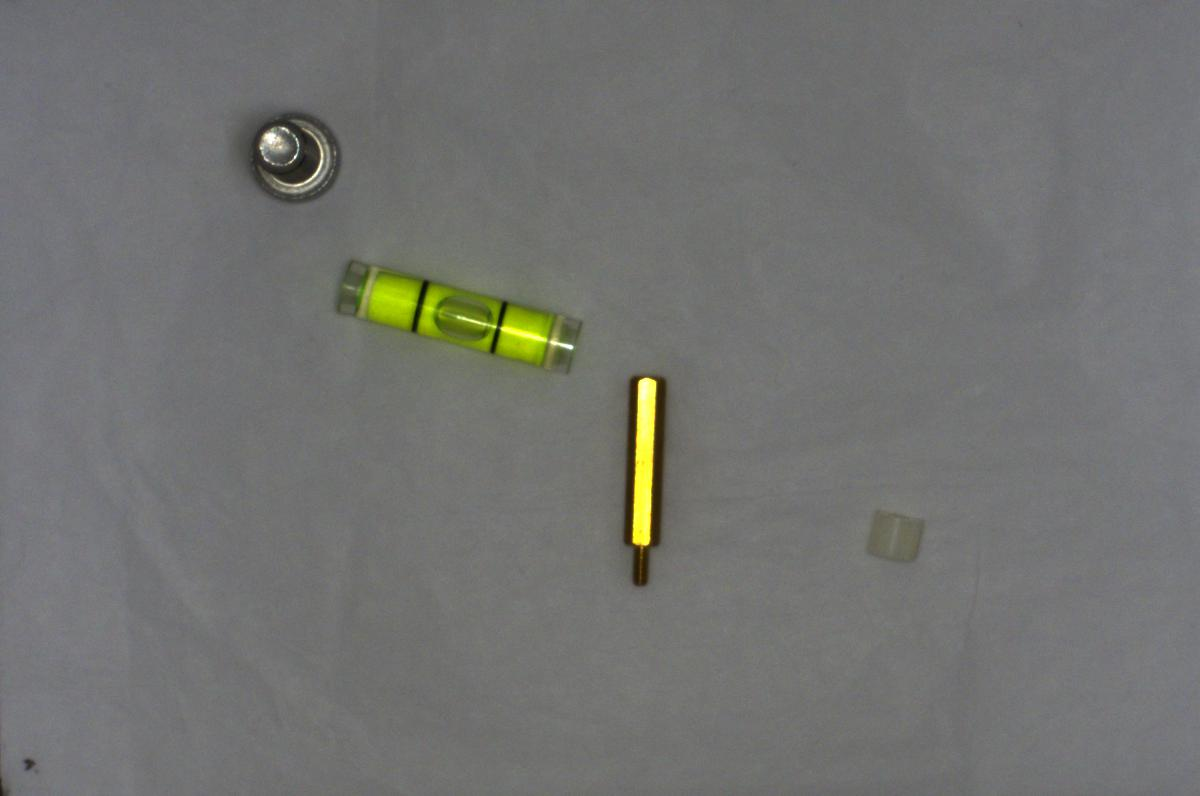Hexagon pillar: (611, 365, 674, 586)
Hexagon screw: (244, 109, 353, 206)
Horizontal bubble: (322, 252, 586, 375)
Plastic cushion pillar: (851, 501, 940, 572)
